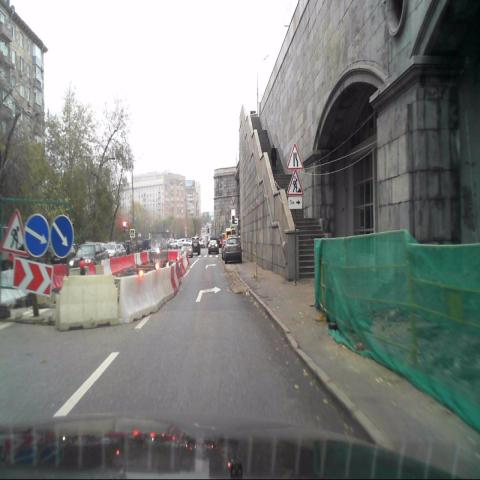1_20_2: (286, 144, 302, 170)
